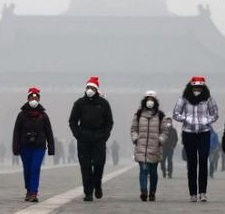person: (68, 74, 117, 203), (173, 75, 219, 203), (12, 86, 55, 202), (130, 89, 166, 202), (162, 116, 178, 179), (206, 125, 219, 178), (67, 139, 78, 164), (110, 140, 119, 166), (56, 141, 66, 164), (53, 136, 59, 164), (1, 143, 7, 165), (12, 155, 20, 167)
